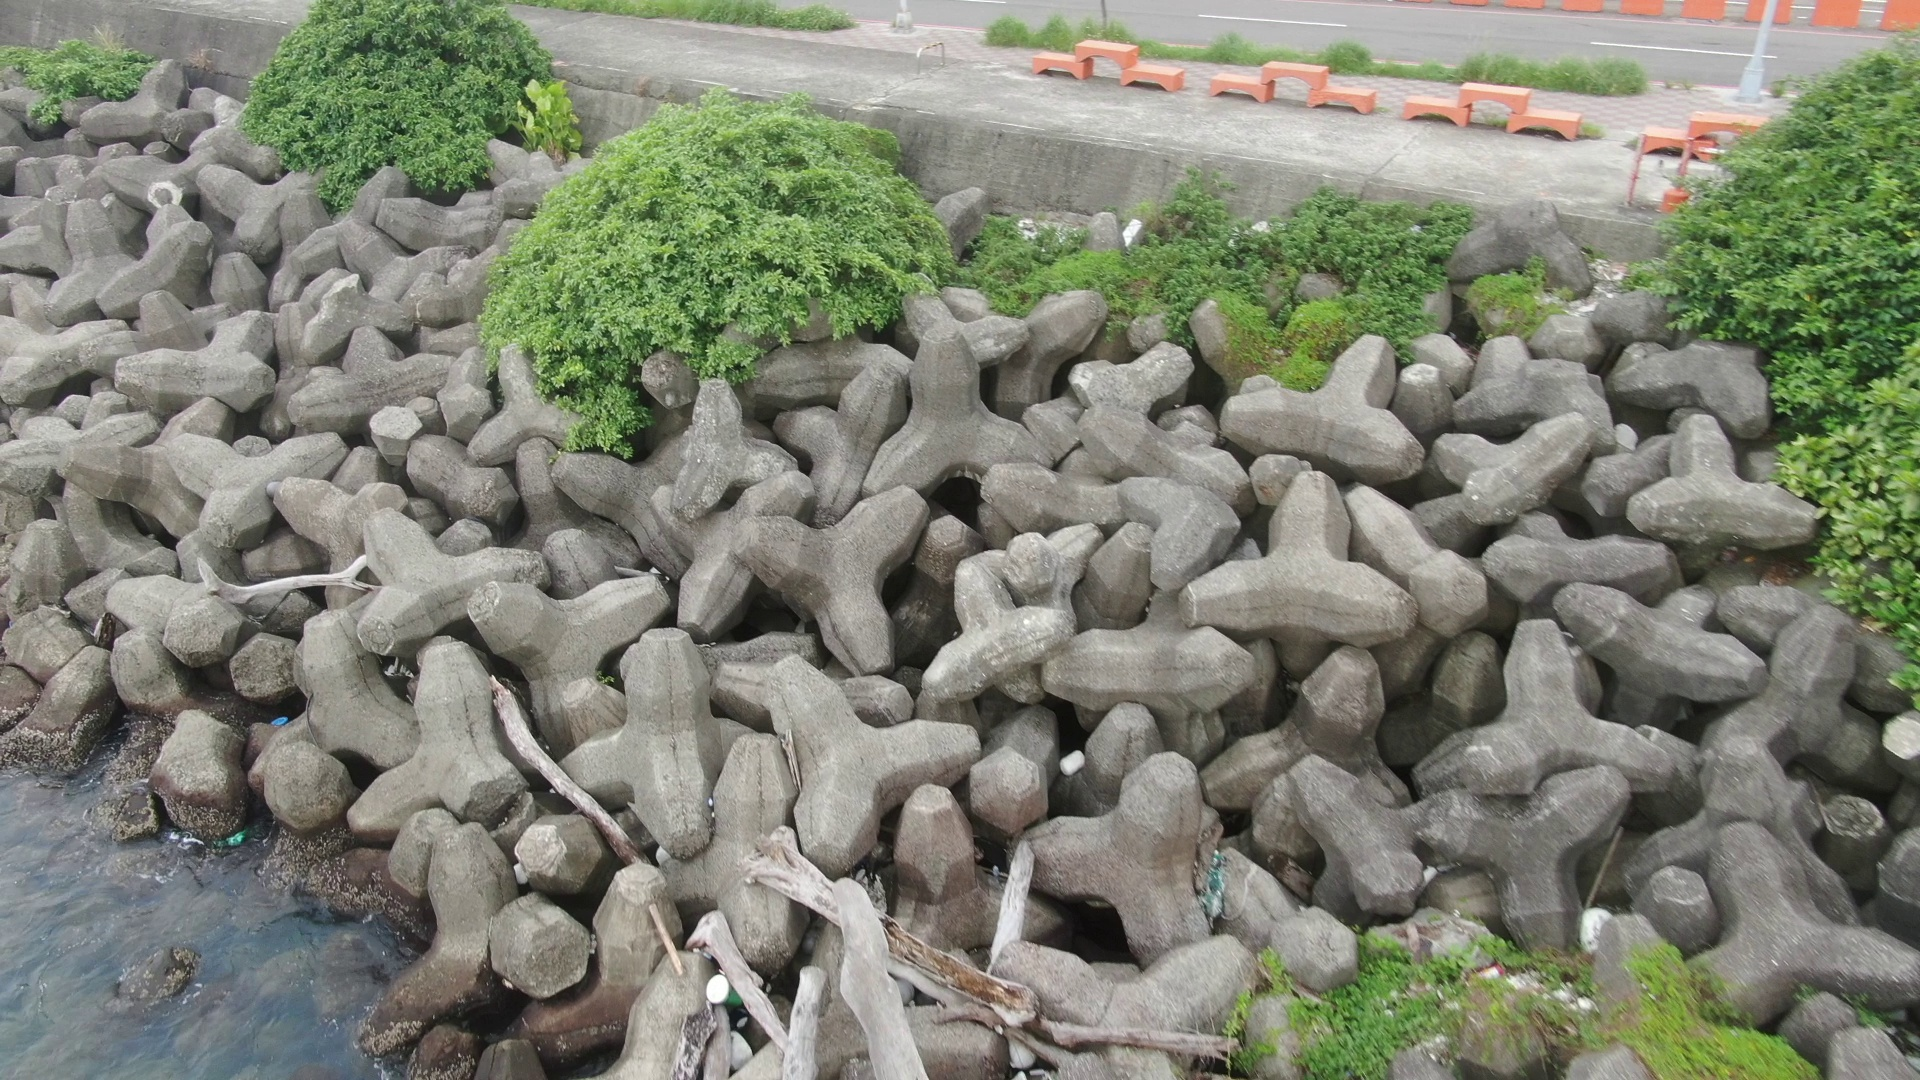garbage: (698, 971, 753, 1010), (1114, 211, 1154, 249), (1052, 742, 1095, 775), (262, 709, 298, 735)
